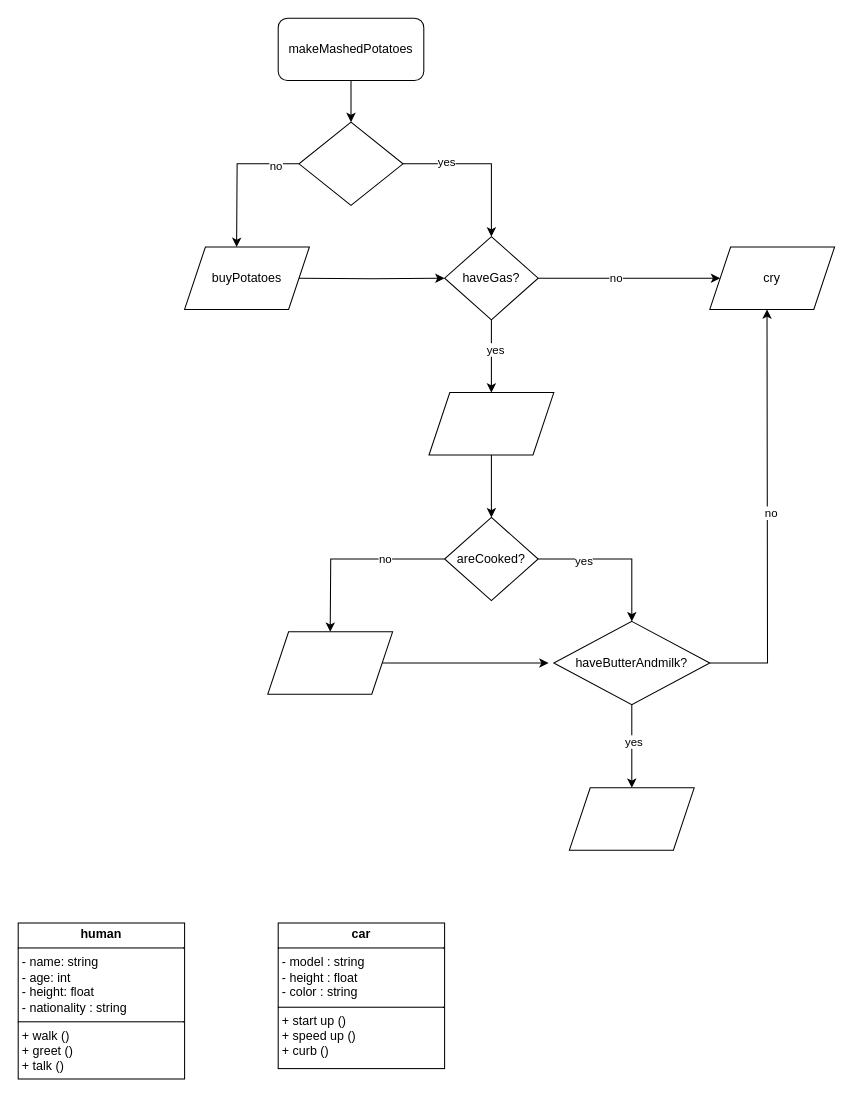
This 853x1097 diagram has some shape labels left out. Each missing label, with the centre of its shape:
"boilPotatoes" goes at point (491, 423).
"eat happy" goes at point (631, 818).
"havePotatoes?" goes at point (350, 163).
"wait" goes at point (330, 662).
